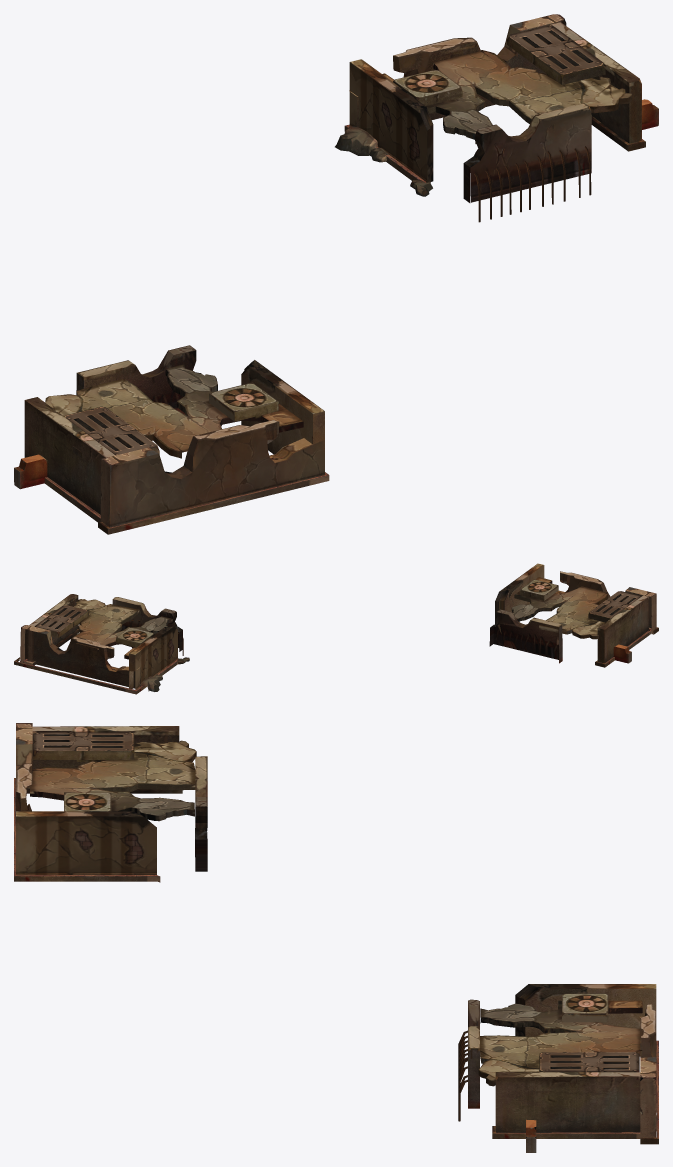
File: map001_02.FBX
3 views of the same model, one above another, from view 1: azimuth 30°, elevation 25°; view 2: azimuth 150°, elevation 25°; view 3: azimuth 270°, elevation 25° (orthographic). The views are drawn at different scales.
Parts seen in each view (by area): view 1: map001_02; view 2: map001_02; view 3: map001_02.
Part boxes in pixels (x1,y1,x2,y2): map001_02: (14,14,658,534); map001_02: (14,563,658,694); map001_02: (14,723,658,1152).
Bounding box in the file's own units: 1597 × 154 × 1150.
Materials: 1 (1 with a texture image).
